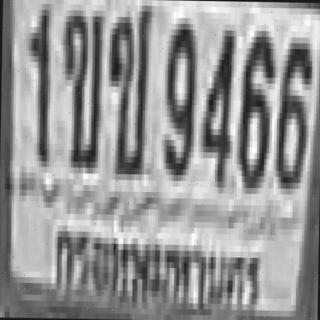A02: (60, 4, 102, 168)
A10: (105, 0, 149, 168)
N01: (27, 3, 49, 161)
N04: (200, 24, 232, 182)
N06: (236, 25, 274, 188), (273, 37, 310, 183)
N09: (161, 14, 196, 172)
P04: (53, 218, 261, 318)
